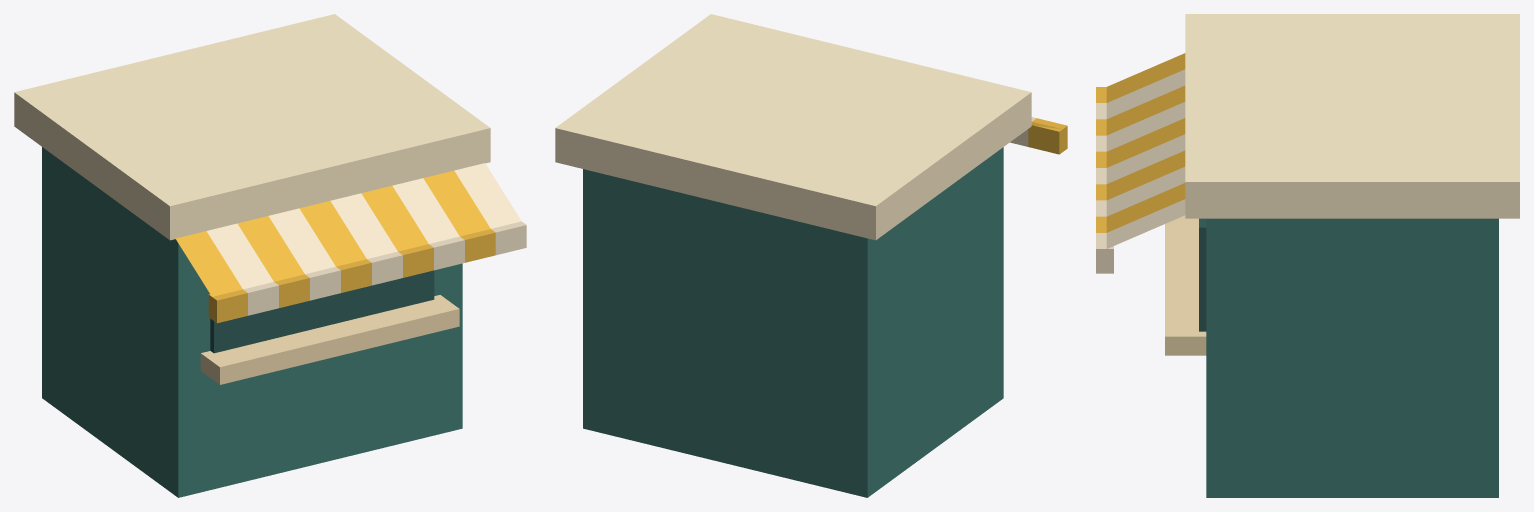
File: kiosk.glb
3 views of the same model, side by side, from view 1: azimuth 30°, elevation 25°; view 2: azimuth 150°, elevation 25°; view 3: azimuth 270°, elevation 25° (orthographic). The views are drawn at different scales.
Visible parts, largest first — view 1: kiosk; view 2: kiosk; view 3: kiosk.
Boxes of the visible parts, <box> form: kiosk: <box>14,14,526,497</box>; kiosk: <box>555,14,1067,497</box>; kiosk: <box>1096,14,1519,497</box>.
Size of the model in its own units: 2.65 by 2.39 by 2.82.
